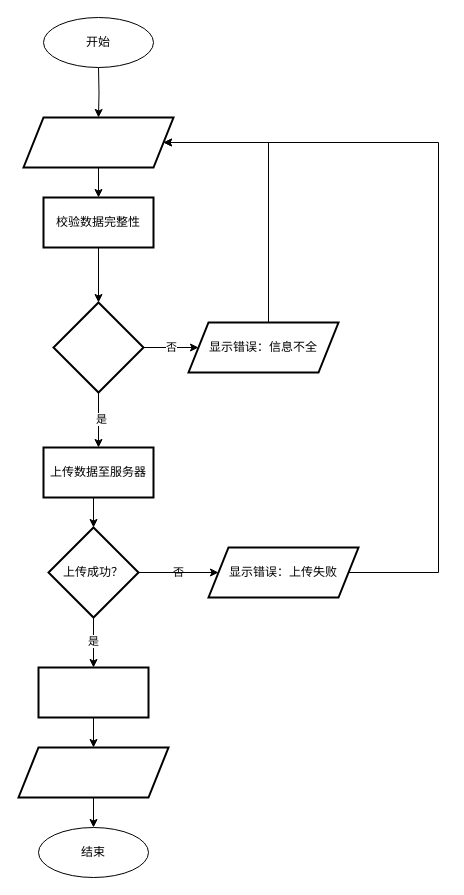
Some shapes in this 464 by 895 pixel diagram are drawn without their labels. The box of each missing label's shape, as (x1, y1, x2, y2) in pixels:
后台存入数据库: (37, 666, 149, 718)
数据合法？: (52, 301, 144, 393)
显示投稿成功: (17, 746, 169, 798)
输入蛇类信息及照片: (22, 116, 174, 168)
